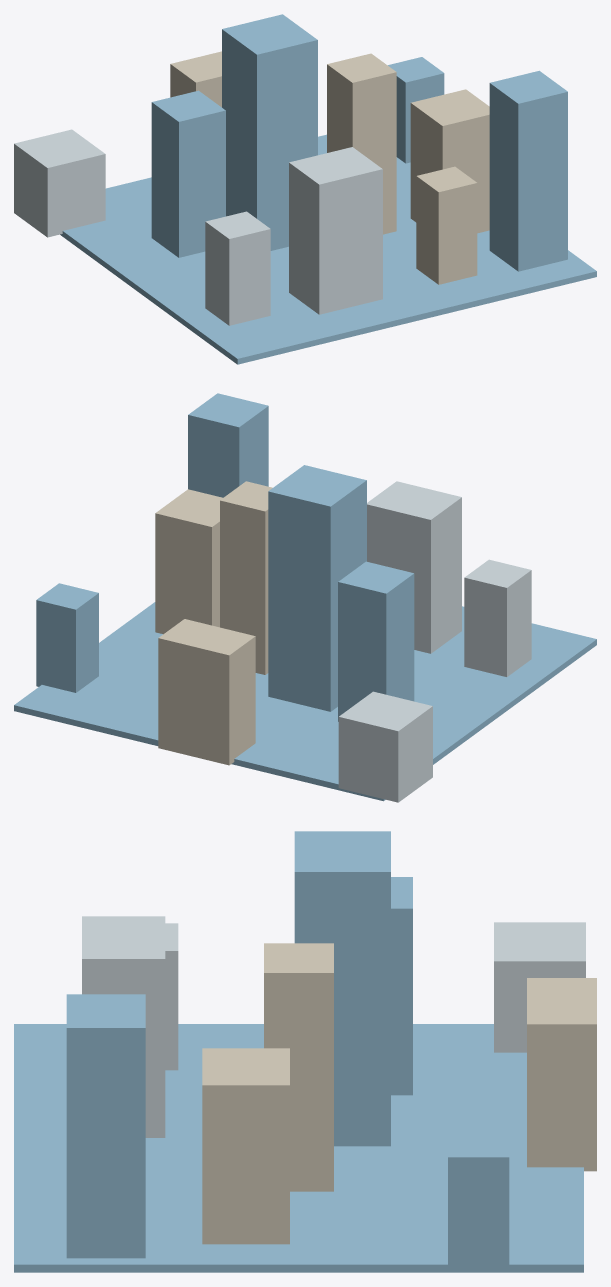
File: city-block.glb
The picture shows the model from 3 angles, top to bottom: view 1: azimuth 30°, elevation 25°; view 2: azimuth 150°, elevation 25°; view 3: azimuth 270°, elevation 25°; orthographic projection. The views are drawn at different scales.
Visible parts, largest first — view 1: Ground, Tower_B, Tower_H, Tower_F, Tower_A, Tower_I, Tower_C, Tower_D, Tower_E, Tower_G, Tower_K, Tower_J; view 2: Ground, Tower_B, Tower_J, Tower_F, Tower_A, Tower_I, Tower_D, Tower_C, Tower_H, Tower_E, Tower_K; view 3: Ground, Tower_B, Tower_H, Tower_D, Tower_C, Tower_J, Tower_F, Tower_K, Tower_I, Tower_A, Tower_E.
Part boxes in pixels (box(x1,y1,x2,y2)): Ground: box(60, 134, 596, 364); Tower_B: box(222, 14, 317, 250); Tower_H: box(489, 70, 567, 271); Tower_F: box(289, 147, 382, 314); Tower_A: box(151, 90, 225, 257); Tower_I: box(14, 129, 105, 237); Tower_C: box(327, 53, 396, 234); Tower_D: box(410, 89, 489, 233); Tower_E: box(205, 211, 270, 325); Tower_G: box(416, 166, 477, 284); Tower_K: box(388, 57, 444, 163); Tower_J: box(170, 51, 221, 107); Ground: box(14, 602, 596, 801); Tower_B: box(268, 465, 366, 711); Tower_J: box(158, 619, 255, 765); Tower_F: box(367, 481, 461, 653); Tower_A: box(338, 561, 414, 721); Tower_I: box(338, 691, 432, 802); Tower_D: box(155, 489, 222, 634); Tower_C: box(220, 481, 272, 674); Tower_H: box(188, 393, 268, 497); Tower_E: box(464, 559, 531, 676); Tower_K: box(36, 583, 98, 692); Ground: box(14, 1024, 583, 1272); Tower_B: box(294, 831, 390, 1146); Tower_H: box(66, 994, 145, 1258); Tower_D: box(202, 1048, 289, 1244); Tower_C: box(264, 943, 333, 1191); Tower_J: box(527, 978, 596, 1171); Tower_F: box(82, 916, 165, 1137); Tower_K: box(448, 1131, 509, 1272); Tower_I: box(494, 922, 585, 1052); Tower_A: box(391, 877, 412, 1095); Tower_E: box(165, 923, 178, 1070).
Bounding box in the file's own units: 275 × 142 × 266.
